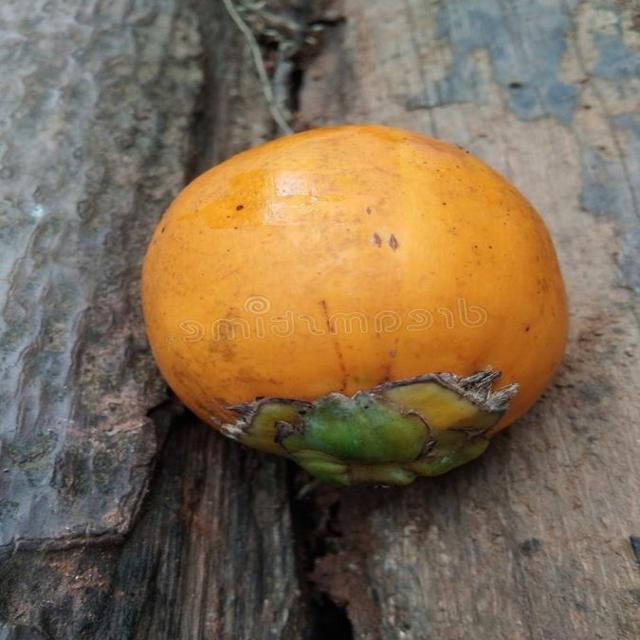good: (140, 124, 569, 489)
